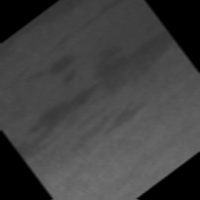inclusion: (12, 22, 181, 162), (0, 0, 122, 64), (15, 41, 91, 109), (91, 90, 158, 149), (69, 0, 140, 42)
